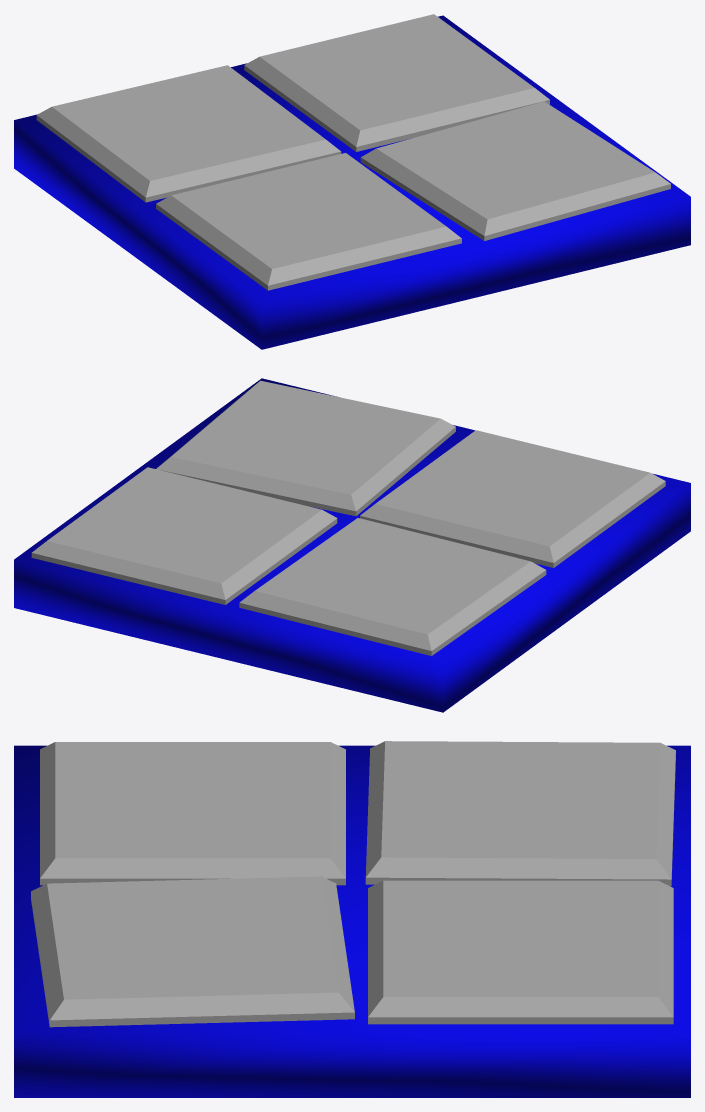
The model's file is test_simp2.fbx.
3 views of the same model, one above another, from view 1: azimuth 30°, elevation 25°; view 2: azimuth 150°, elevation 25°; view 3: azimuth 270°, elevation 25° (orthographic). The views are drawn at different scales.
Parts seen in each view (by area): view 1: tile_V1_2_low, pCube4, pCube3, pCube1, pCube2; view 2: tile_V1_2_low, pCube2, pCube1, pCube3, pCube4; view 3: tile_V1_2_low, pCube1, pCube4, pCube2, pCube3.
Part boxes in pixels (<box>): tile_V1_2_low: <box>14,15,690,349</box>; pCube4: <box>360,101,670,240</box>; pCube3: <box>156,153,461,290</box>; pCube1: <box>244,14,549,151</box>; pCube2: <box>36,65,341,202</box>; tile_V1_2_low: <box>14,378,690,712</box>; pCube2: <box>239,518,546,655</box>; pCube1: <box>31,467,337,604</box>; pCube3: <box>360,430,665,567</box>; pCube4: <box>156,380,455,516</box>; tile_V1_2_low: <box>14,745,690,1097</box>; pCube1: <box>368,880,673,1024</box>; pCube4: <box>31,876,354,1027</box>; pCube2: <box>365,741,675,886</box>; pCube3: <box>40,742,345,885</box>.
Size of the model in its own units: 0.02 by 0.00283 by 0.02.
